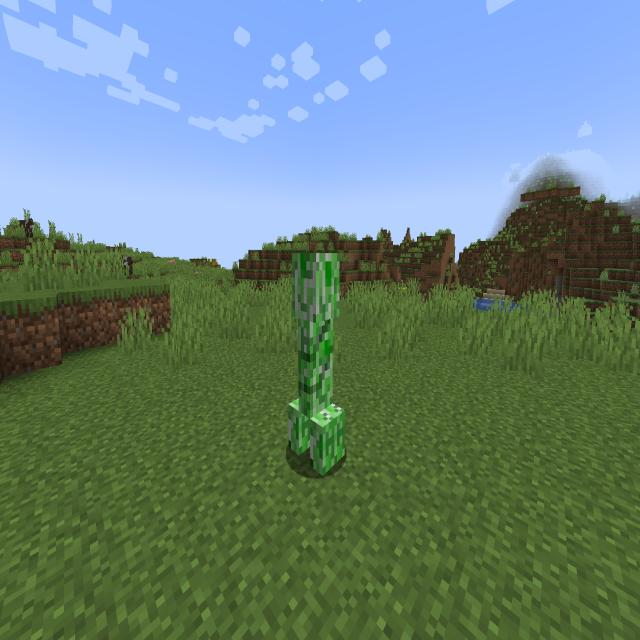Creeper: (284, 240, 354, 486)
